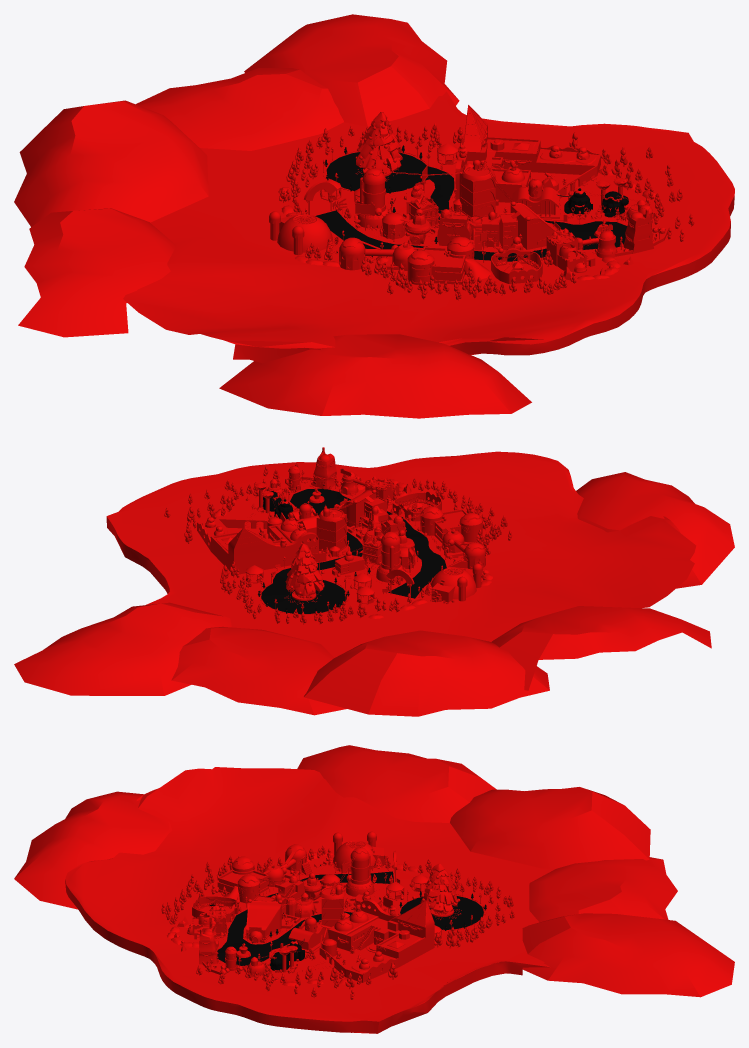
Rendered from Individual_PenguPlazaChristmas_01.glb.
3 views of the same model, one above another, from view 1: azimuth 30°, elevation 25°; view 2: azimuth 150°, elevation 25°; view 3: azimuth 270°, elevation 25° (orthographic). The views are drawn at different scales.
Visible parts, largest first — view 1: pasted__pasted__Berg, pasted__SnowPatch17, pasted__SnowPatch23, pasted__SnowPatch22, pasted__SnowPatch25, pasted__SnowPatch24, pasted__polySurface204, polySurface198, polySurface194, pCylinder31, Tree_54, polySurface246 (+9 smaller); view 2: pasted__pasted__Berg, pasted__SnowPatch23, pasted__SnowPatch25, pasted__SnowPatch24, pasted__SnowPatch22, pasted__SnowPatch17, pasted__polySurface204, polySurface194, polySurface198, Tree_54, pCylinder31, polySurface325 (+7 smaller); view 3: pasted__pasted__Berg, pasted__SnowPatch25, pasted__SnowPatch23, pasted__SnowPatch22, pasted__SnowPatch17, pasted__SnowPatch24, pasted__polySurface204, pasted__typeMesh2, polySurface198, Tree_54, polySurface194, pSphere35 (+10 smaller).
Boxes of the visible parts, <box> form: pasted__pasted__Berg: <box>123,91,734,363</box>; pasted__SnowPatch17: <box>219,334,531,418</box>; pasted__SnowPatch23: <box>14,100,208,226</box>; pasted__SnowPatch22: <box>18,208,176,337</box>; pasted__SnowPatch25: <box>244,14,459,126</box>; pasted__SnowPatch24: <box>136,68,343,150</box>; pasted__polySurface204: <box>455,105,600,202</box>; polySurface198: <box>407,242,474,285</box>; polySurface194: <box>269,211,332,254</box>; pCylinder31: <box>453,160,495,217</box>; Tree_54: <box>356,112,402,173</box>; polySurface246: <box>506,178,564,220</box>; pasted__pasted__Berg: <box>106,451,696,657</box>; pasted__SnowPatch23: <box>304,630,549,716</box>; pasted__SnowPatch25: <box>14,602,231,695</box>; pasted__SnowPatch24: <box>171,626,346,715</box>; pasted__SnowPatch22: <box>491,606,711,690</box>; pasted__SnowPatch17: <box>576,472,734,588</box>; pasted__polySurface204: <box>197,512,318,574</box>; polySurface194: <box>430,563,482,602</box>; polySurface198: <box>420,509,482,542</box>; Tree_54: <box>285,544,324,596</box>; pCylinder31: <box>316,508,346,556</box>; polySurface325: <box>442,528,485,569</box>; pasted__pasted__Berg: <box>65,767,554,1033</box>; pasted__SnowPatch25: <box>522,913,734,997</box>; pasted__SnowPatch23: <box>450,787,650,868</box>; pasted__SnowPatch22: <box>297,745,496,822</box>; pasted__SnowPatch17: <box>14,791,172,909</box>; pasted__SnowPatch24: <box>529,857,677,922</box>; pasted__polySurface204: <box>319,899,434,982</box>; pasted__typeMesh2: <box>246,895,325,942</box>; polySurface198: <box>217,861,268,903</box>; Tree_54: <box>420,863,457,912</box>; polySurface194: <box>333,831,383,871</box>; pSphere35: <box>345,850,374,896</box>.
Bounding box in the file's own units: 190 × 28.36 × 207.
